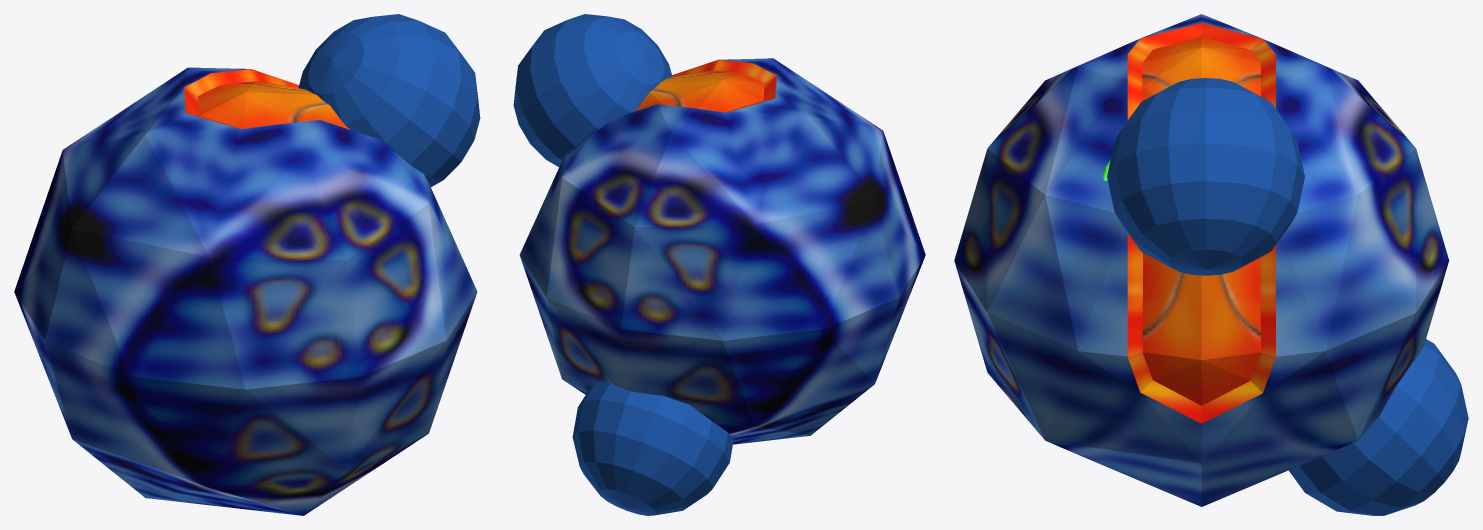
The model's file is plasma grenade.obj.
3 views of the same model, side by side, from view 1: azimuth 30°, elevation 25°; view 2: azimuth 150°, elevation 25°; view 3: azimuth 270°, elevation 25° (orthographic). The views are drawn at different scales.
Visible parts, largest first — view 1: __unnamed, _light; view 2: __unnamed, _ground_point, _light; view 3: __unnamed, _light, _ground_point.
Boxes of the visible parts, x1,y1,x2,y2 form: __unnamed: [14, 67, 477, 515]; _light: [298, 14, 480, 186]; __unnamed: [519, 58, 925, 444]; _ground_point: [572, 382, 734, 515]; _light: [513, 14, 672, 166]; __unnamed: [954, 14, 1449, 506]; _light: [1107, 78, 1304, 275]; _ground_point: [1289, 339, 1468, 515].
Size of the model in its own units: 5.3 by 5.53 by 5.2.
